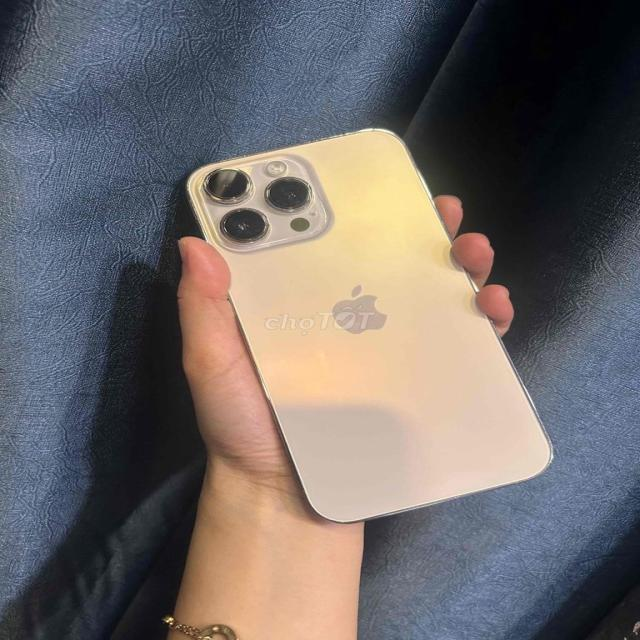gen_14: (179, 116, 565, 545)
